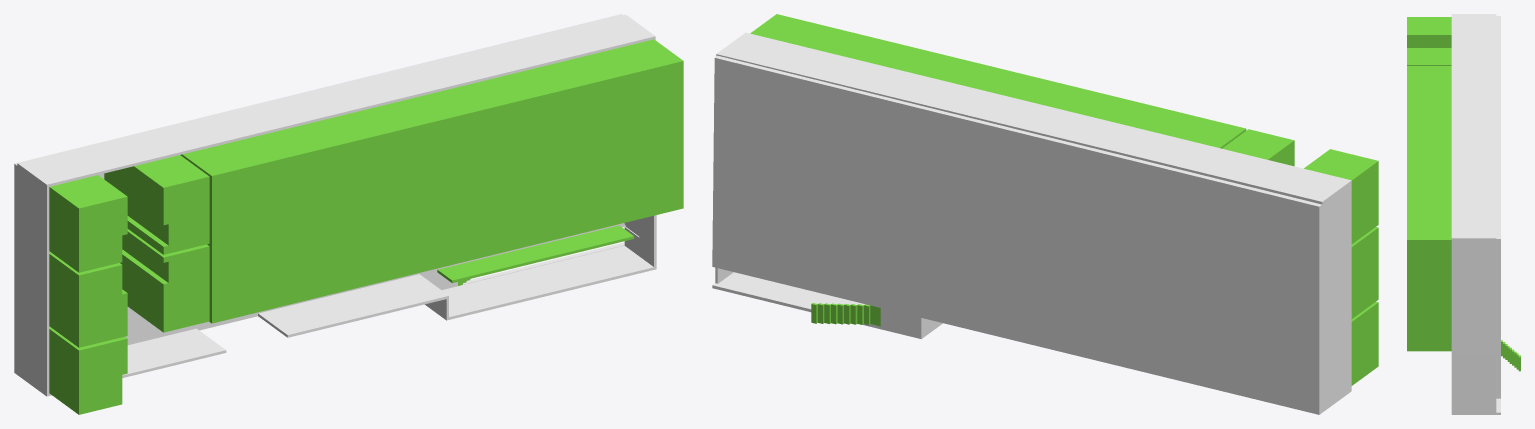
The model's file is Edificio B - Piso 2.obj.
3 views of the same model, side by side, from view 1: azimuth 30°, elevation 25°; view 2: azimuth 150°, elevation 25°; view 3: azimuth 270°, elevation 25° (orthographic). The views are drawn at different scales.
Visible parts, largest first — view 1: Cuerpo 3, Cuerpo 0, Cuerpo 5, Cuerpo 4, Cuerpo6, Cuerpo 2, Cuerpo 1, Cuerpo 8, Cuerpo 9; view 2: Cuerpo 8, Cuerpo 0, Cuerpo 3, Cuerpo6, Cuerpo 2, Cuerpo 1, Cuerpo 5, Cuerpo 9; view 3: Cuerpo 0, Cuerpo 3, Cuerpo 8, Cuerpo6, Cuerpo 5, Cuerpo 9.
Boxes of the visible parts, x1,y1,x2,y2 form: Cuerpo 3: [180, 39, 683, 323]; Cuerpo 0: [17, 14, 656, 396]; Cuerpo 5: [104, 155, 209, 254]; Cuerpo 4: [120, 229, 209, 332]; Cuerpo6: [49, 175, 127, 272]; Cuerpo 2: [49, 251, 127, 347]; Cuerpo 1: [49, 326, 127, 414]; Cuerpo 8: [14, 14, 625, 374]; Cuerpo 9: [437, 225, 634, 285]; Cuerpo 8: [712, 55, 1322, 414]; Cuerpo 0: [715, 32, 1351, 412]; Cuerpo 3: [750, 14, 1246, 148]; Cuerpo6: [1304, 149, 1378, 244]; Cuerpo 2: [1351, 227, 1378, 318]; Cuerpo 1: [1351, 301, 1378, 385]; Cuerpo 5: [1222, 129, 1294, 166]; Cuerpo 9: [811, 303, 880, 326]; Cuerpo 0: [1451, 14, 1496, 414]; Cuerpo 3: [1407, 66, 1451, 351]; Cuerpo 8: [1496, 16, 1500, 414]; Cuerpo6: [1407, 17, 1451, 47]; Cuerpo 5: [1407, 48, 1451, 65]; Cuerpo 9: [1501, 340, 1520, 371].
Size of the model in its own units: 11.9 by 4.35 by 2.55.
